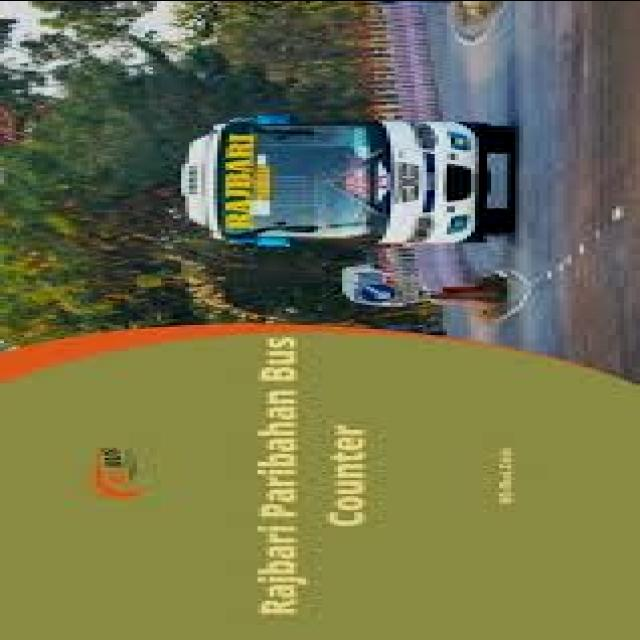bus: (161, 112, 533, 248)
